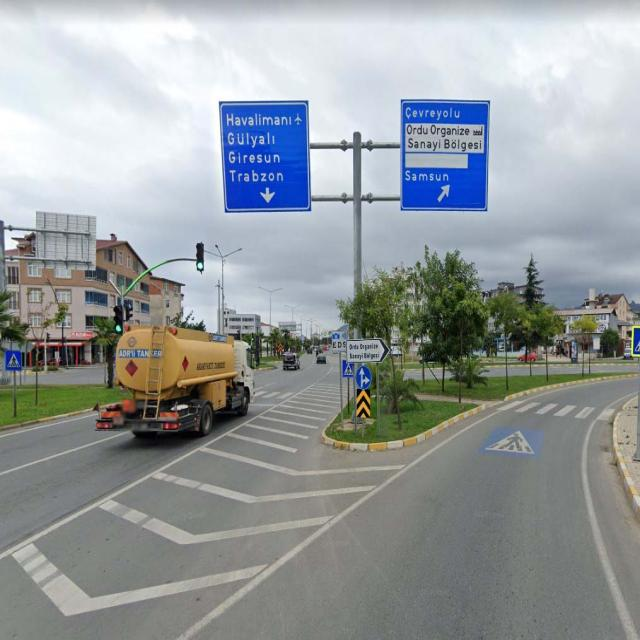ilerisag: (355, 365, 373, 392)
yesil: (114, 306, 123, 334), (197, 244, 203, 272)
